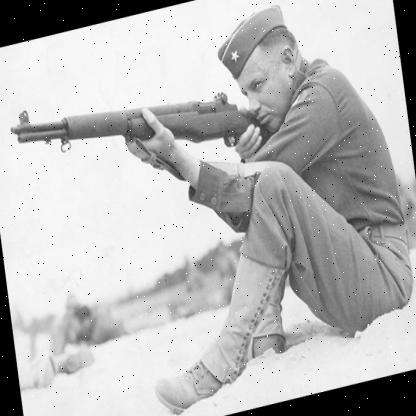rifle: (6, 48, 272, 213)
